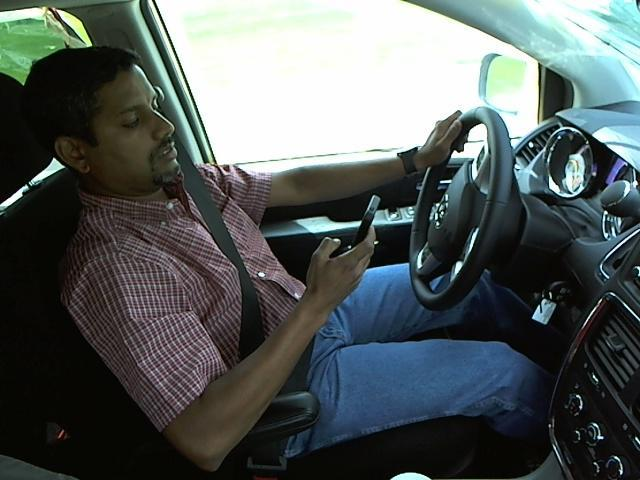PhoneUse: (332, 191, 384, 271)
